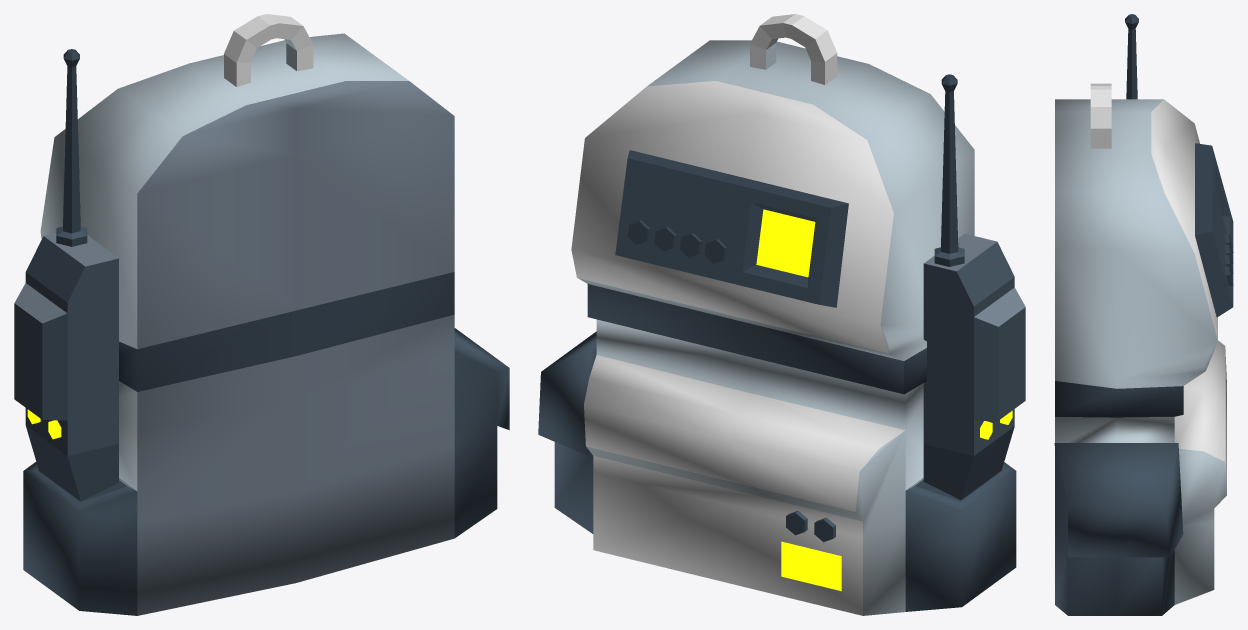
The model's file is astroBackpack.fbx.
3 views of the same model, side by side, from view 1: azimuth 30°, elevation 25°; view 2: azimuth 150°, elevation 25°; view 3: azimuth 270°, elevation 25° (orthographic). The views are drawn at different scales.
Visible parts, largest first — view 1: astroBackpack; view 2: astroBackpack; view 3: astroBackpack.
Part boxes in pixels (x1,y1,x2,y2): astroBackpack: [14, 14, 509, 615]; astroBackpack: [538, 14, 1025, 615]; astroBackpack: [1054, 14, 1233, 615].
Bounding box in the file's own units: 98.3 × 113 × 39.98.
